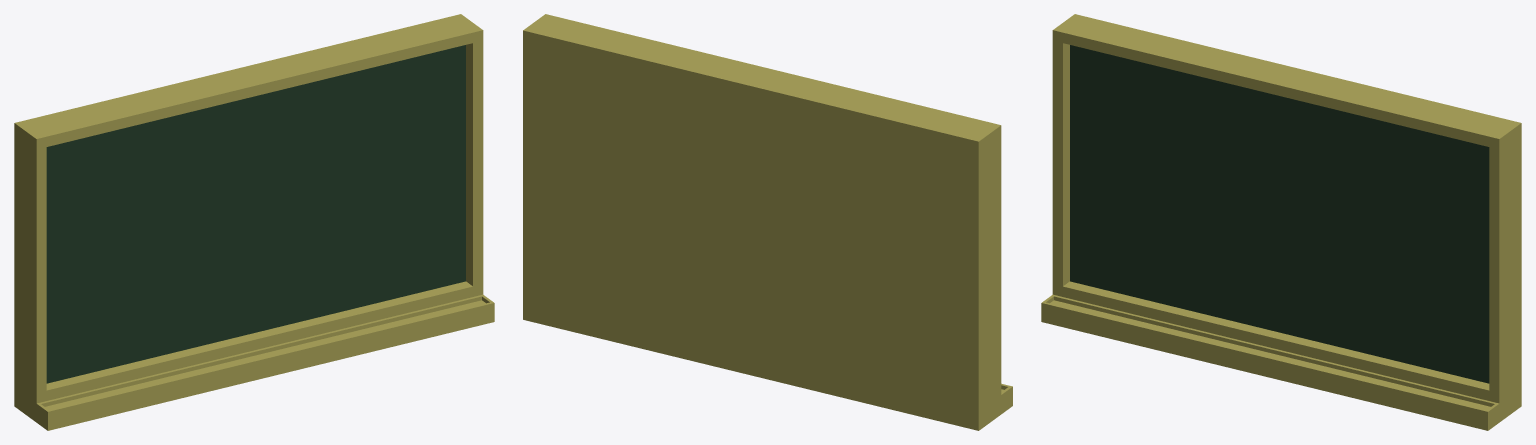
File: chalkboard.glb
3 renders of one model, left to right at view 1: azimuth 30°, elevation 25°; view 2: azimuth 150°, elevation 25°; view 3: azimuth 330°, elevation 25°, orthographic. The views are drawn at different scales.
Parts seen in each view (by area): view 1: Cube; view 2: Cube; view 3: Cube.
Boxes of the visible parts, x1,y1,x2,y2 form: Cube: (14,14,494,430); Cube: (523,14,1012,430); Cube: (1041,14,1521,430).
Size of the model in its own units: 5.36 by 3.25 by 0.6953.
